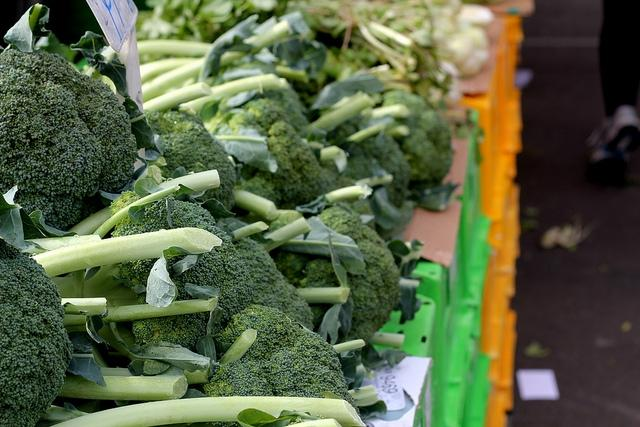broccoli: (0, 49, 105, 231), (204, 304, 360, 418), (275, 206, 402, 346), (0, 238, 74, 427), (140, 17, 302, 102), (50, 391, 368, 427), (28, 228, 222, 278), (167, 225, 253, 324), (327, 112, 412, 208), (160, 122, 236, 205), (394, 103, 452, 191), (110, 195, 216, 238), (231, 86, 309, 139), (265, 120, 321, 185), (58, 375, 189, 400), (234, 176, 281, 209)
